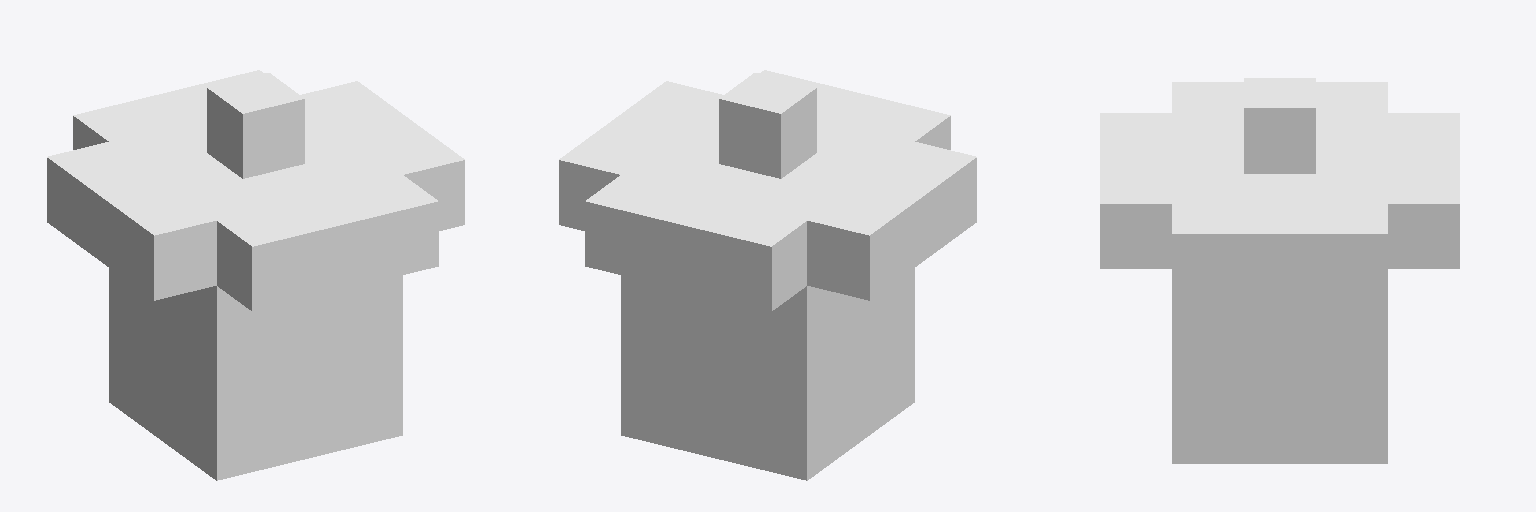
Rendered from GarbageCan.vox.obj.
3 views of the same model, side by side, from view 1: azimuth 30°, elevation 25°; view 2: azimuth 150°, elevation 25°; view 3: azimuth 270°, elevation 25° (orthographic).
Visible parts, largest first — view 1: object 1; view 2: object 1; view 3: object 1.
Part boxes in pixels (x1,y1,x2,y2): object 1: (47,70,464,480); object 1: (559,70,976,480); object 1: (1100,78,1459,463).
Bounding box in the file's own units: 0.5 × 0.5 × 0.5.